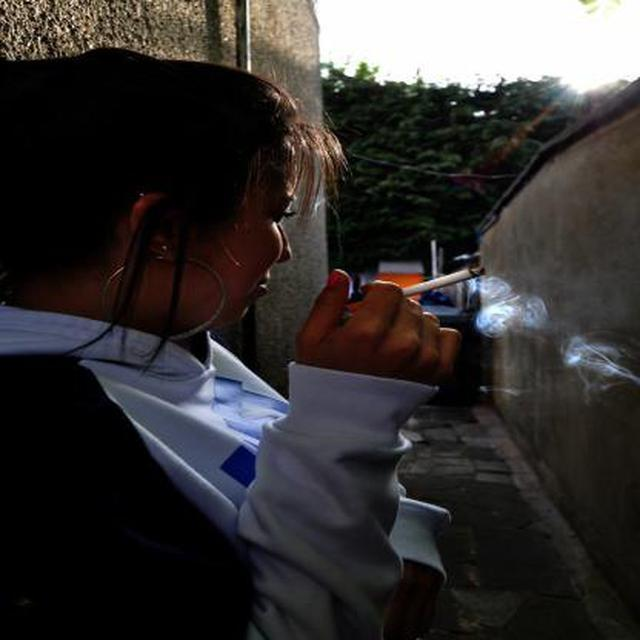smoking: (346, 260, 503, 313)
